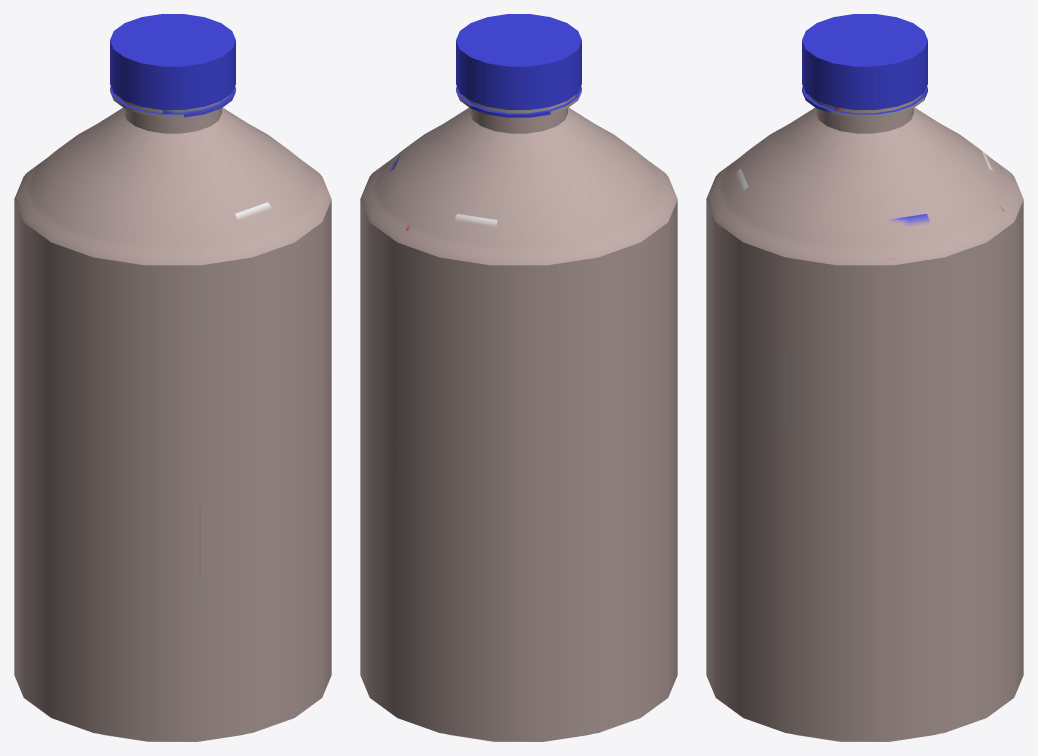
File: Lab_Tools_Large_Bottle.fbx
The picture shows the model from 3 angles, left to right: view 1: azimuth 30°, elevation 25°; view 2: azimuth 150°, elevation 25°; view 3: azimuth 270°, elevation 25°; orthographic projection.
Parts seen in each view (by area): view 1: Large_Bottle; view 2: Large_Bottle; view 3: Large_Bottle.
Boxes of the visible parts, x1,y1,x2,y2 form: Large_Bottle: [14, 14, 331, 741]; Large_Bottle: [360, 14, 677, 741]; Large_Bottle: [706, 14, 1023, 741].
Size of the model in its own units: 0.0757 by 0.1734 by 0.0768.
